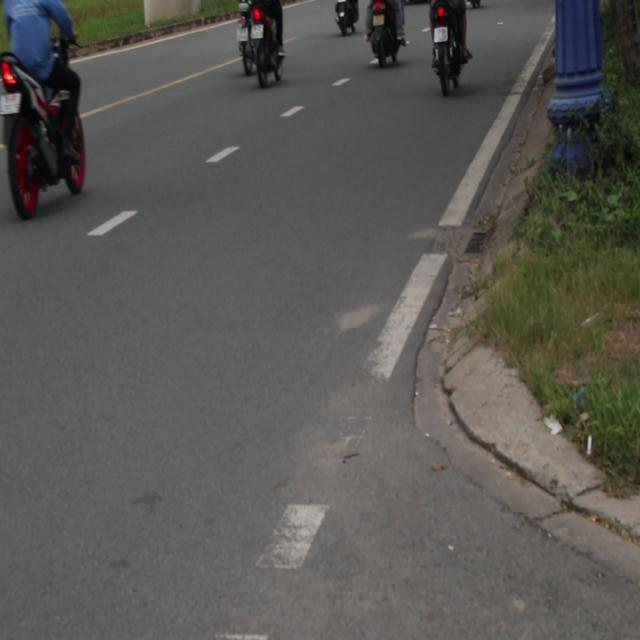motorbike: (1, 51, 89, 219), (428, 18, 471, 112), (253, 20, 306, 92), (367, 18, 403, 70), (230, 8, 259, 66), (333, 0, 361, 40)
